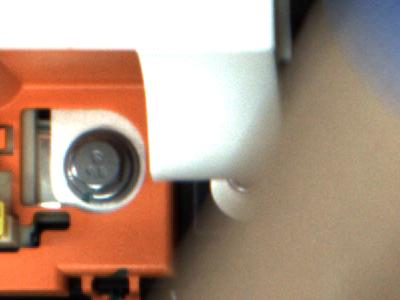nut_b: (59, 127, 150, 208)
